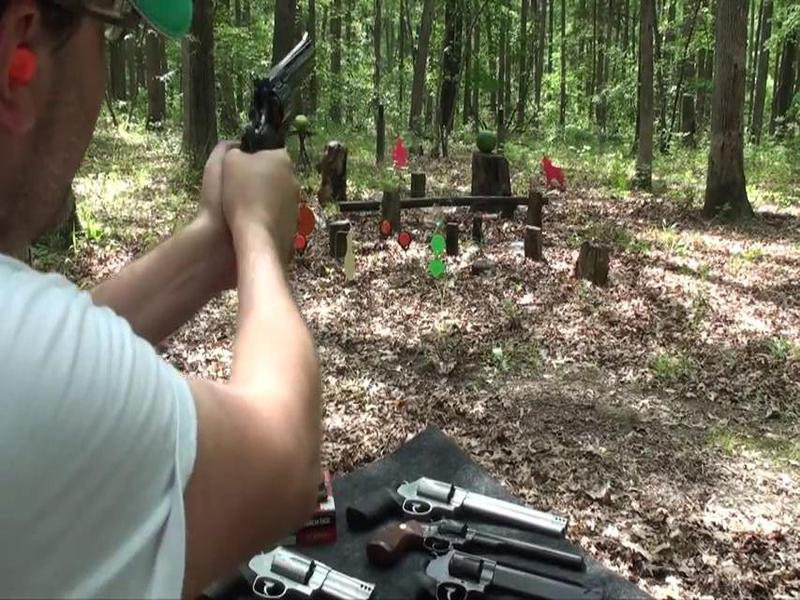Revolver: (217, 26, 345, 173)
